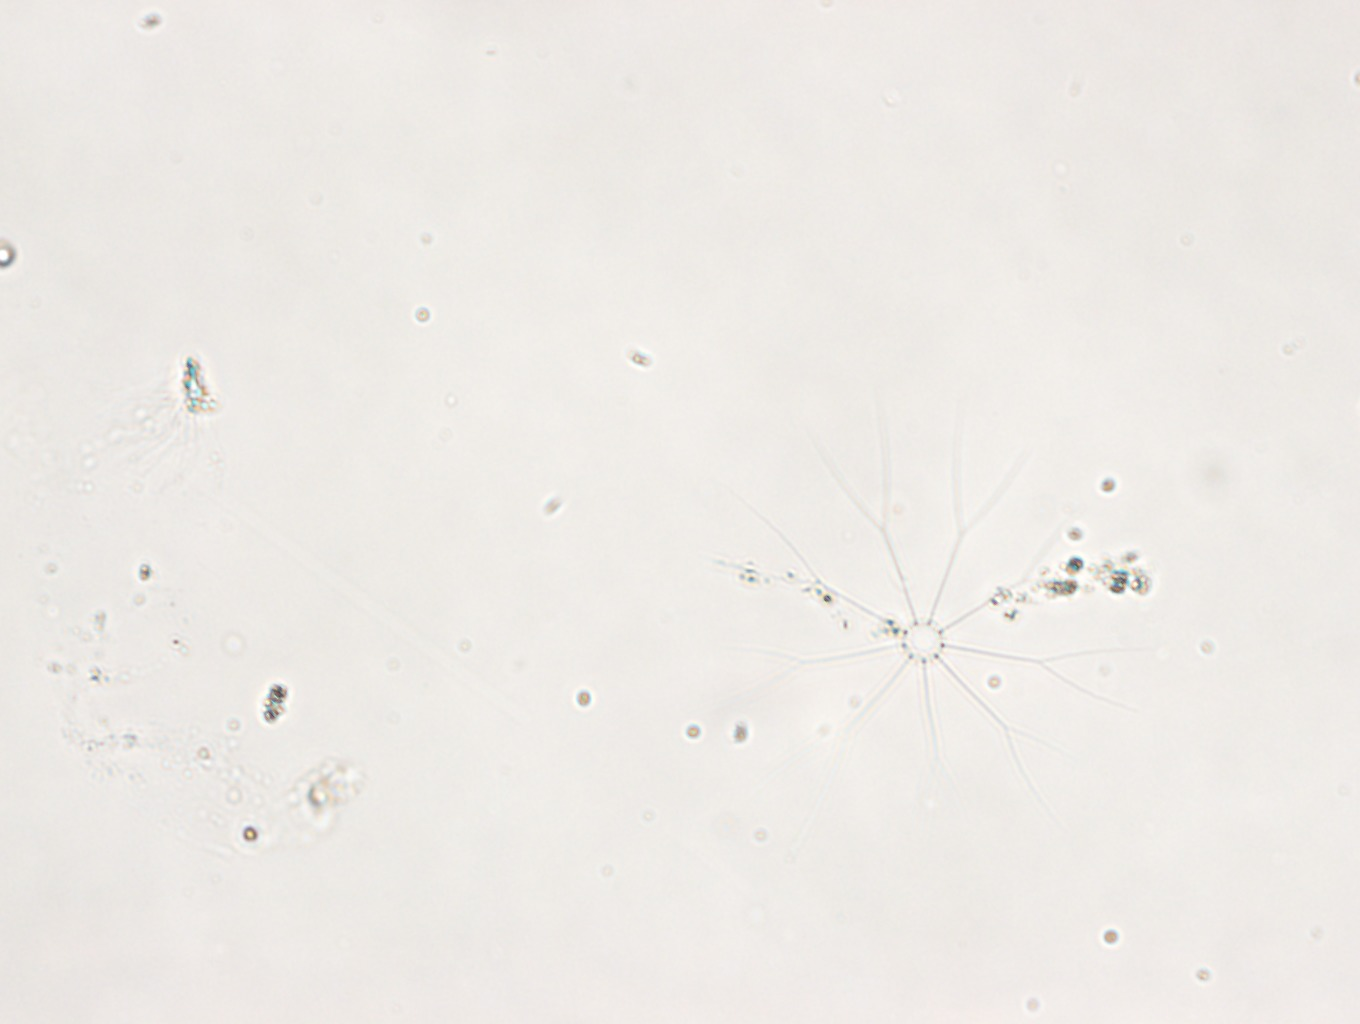bacteriastrum: (714, 419, 1140, 800)
